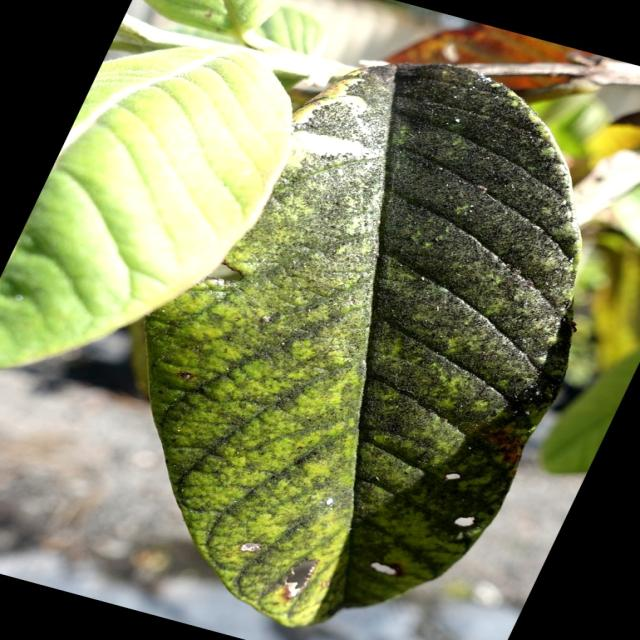Sooty Mold: (139, 59, 582, 628)
